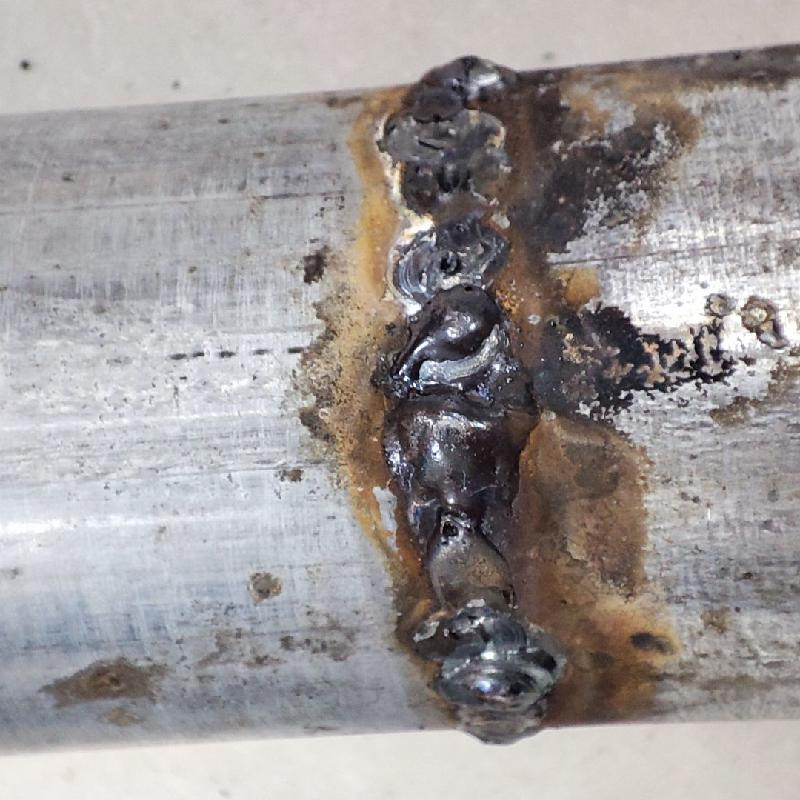Not_fully_soldered: (402, 515, 518, 610)
Surface_pores: (425, 516, 474, 545)
Weld: (379, 390, 532, 516)
wrong_size: (406, 612, 548, 735)
